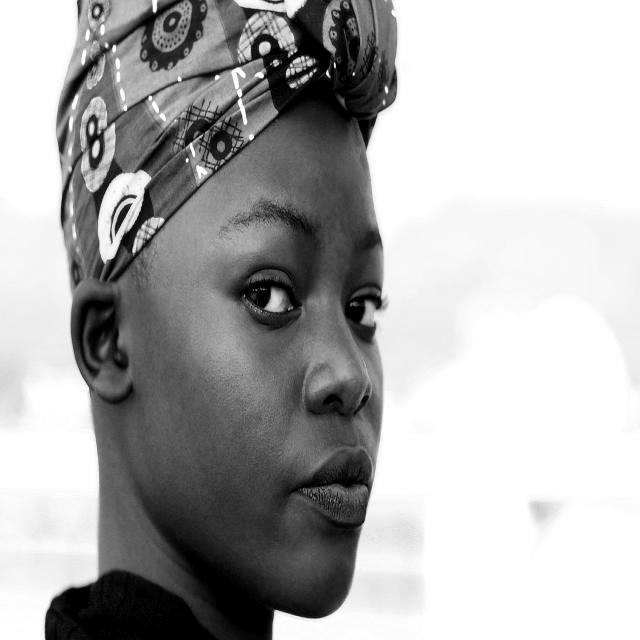no_hard_hat: (56, 0, 397, 277)
person: (45, 86, 383, 639)
